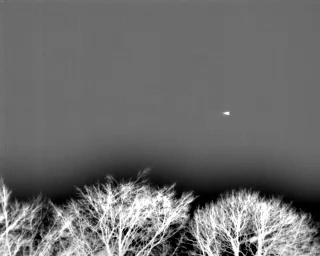BIRD: (221, 109, 232, 119)
